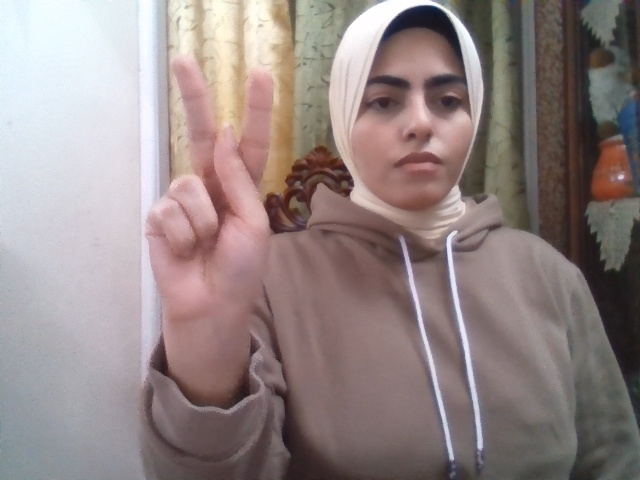K: (144, 55, 274, 329)
